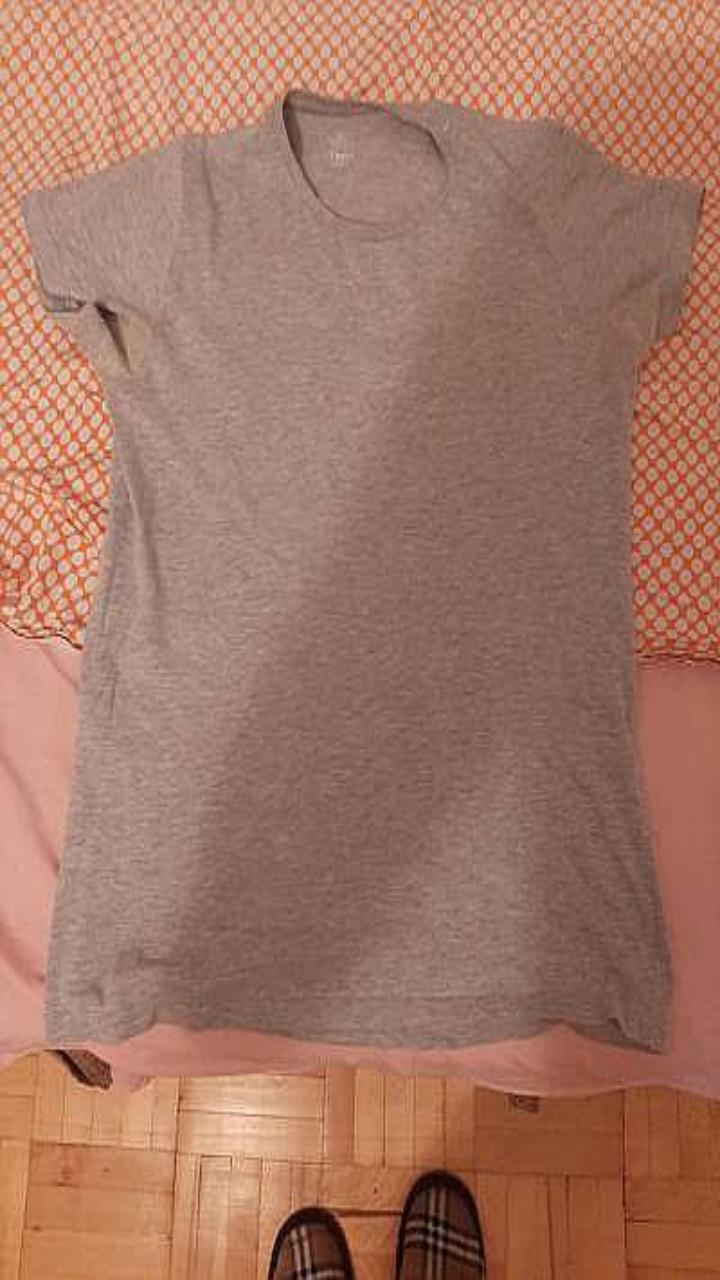T-Shirt: (22, 88, 703, 1049)
